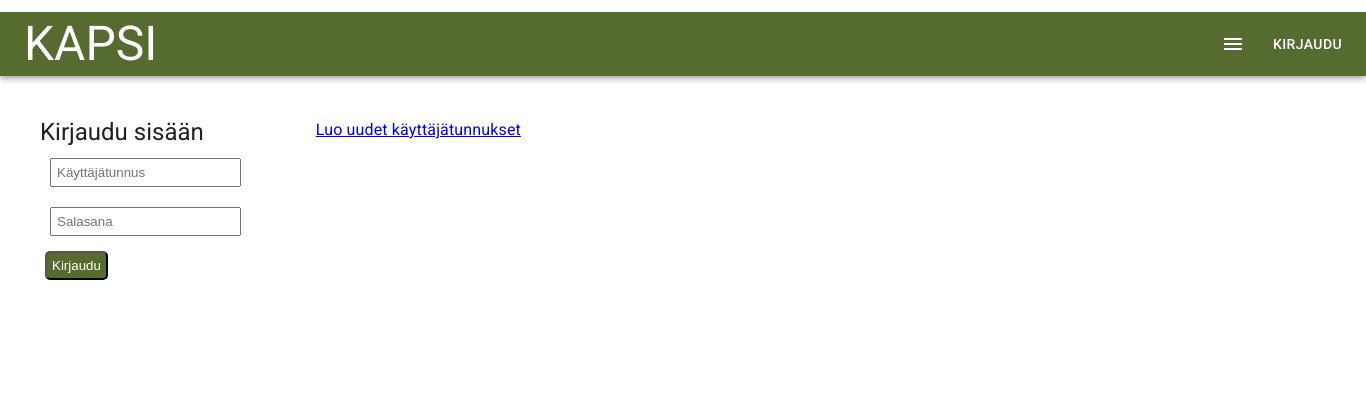
it: User › can find user creation from login page
This screenshot has width=1366, height=395.
Click the link with id "signup-link". click: [419, 130]
box: [316,116,521,144]
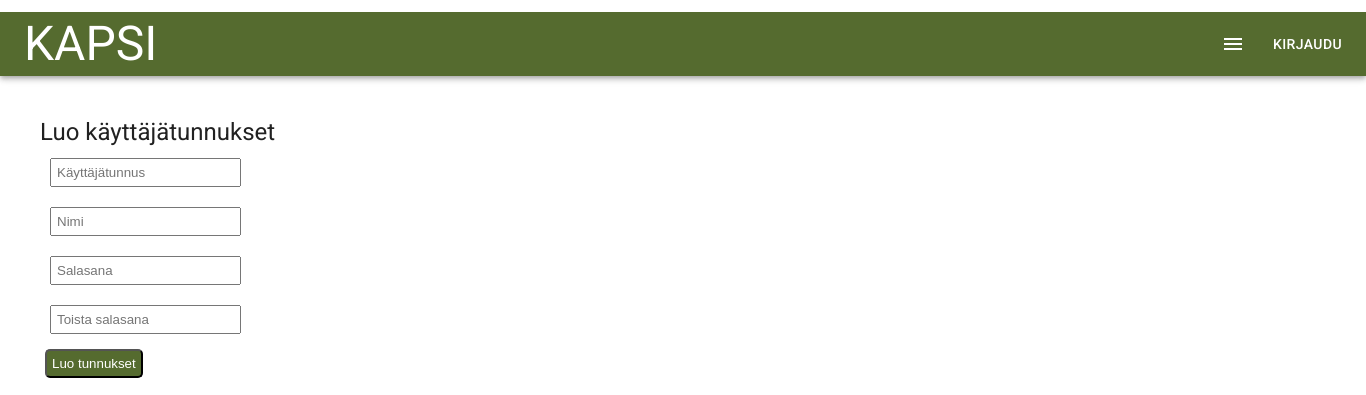
Expected: the heading "Luo käyttäjätunnukset" is shown, [40,118,275,146]
